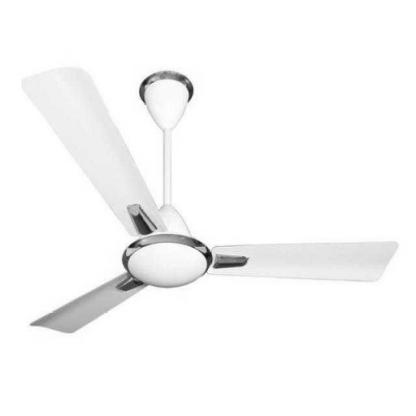ceiling-fan: (20, 66, 398, 343)
